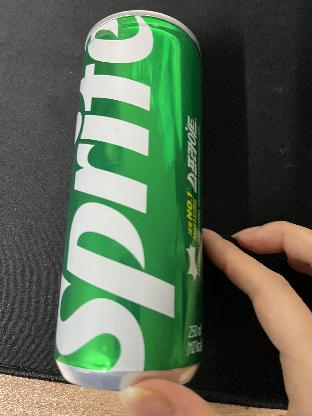Can: (50, 8, 203, 394)
